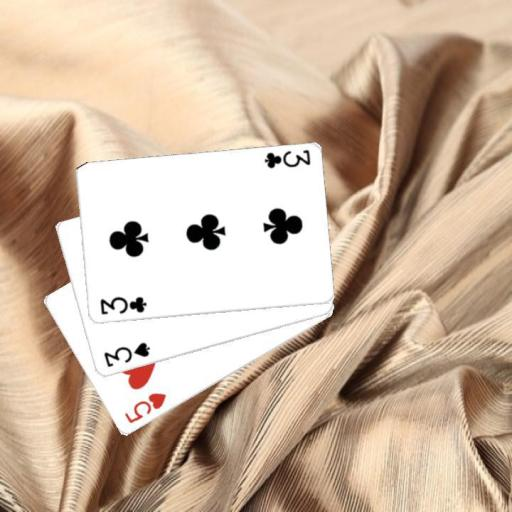3C: (261, 146, 312, 170), (97, 294, 148, 317)
3S: (101, 339, 152, 369)
5H: (121, 390, 168, 425)
